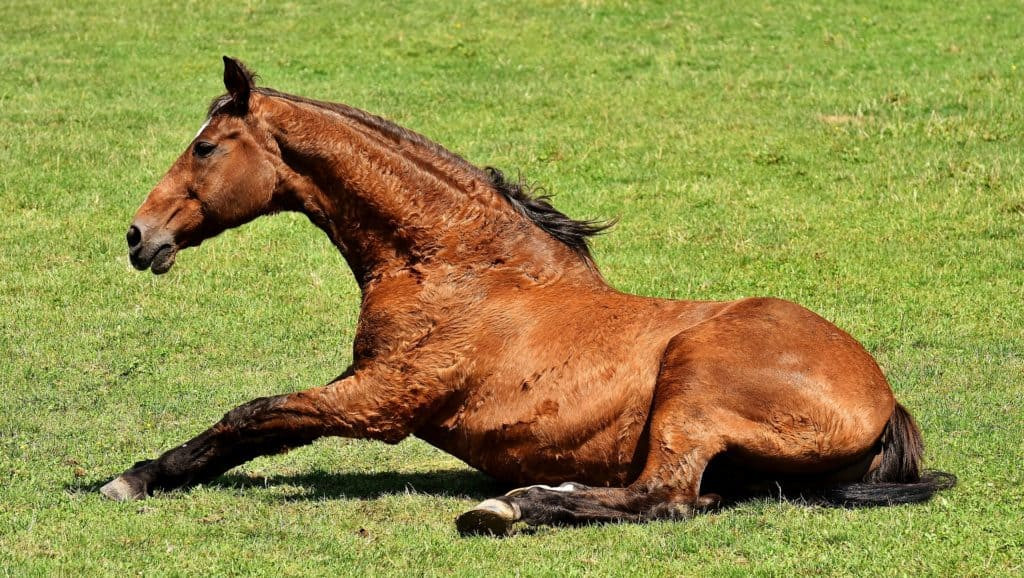horse: (97, 52, 959, 541)
